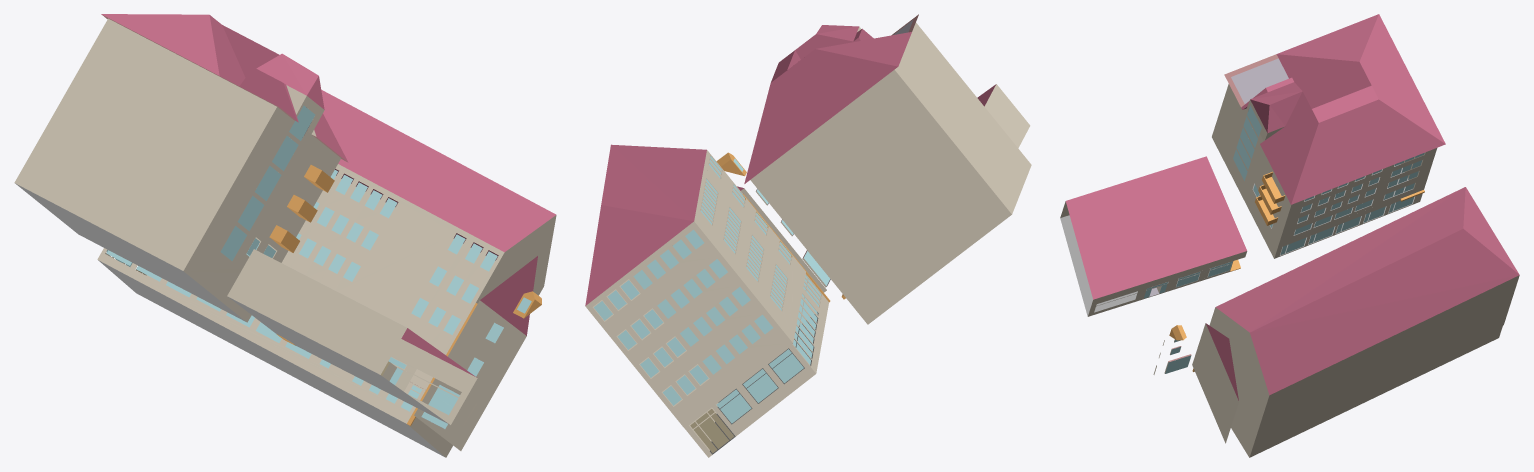
3 renders of one model, left to right at view 1: azimuth 30°, elevation 25°; view 2: azimuth 150°, elevation 25°; view 3: azimuth 270°, elevation 25°, orthographic. The views are drawn at different scales.
Parts seen in each view (by area): view 1: mesh; view 2: mesh; view 3: mesh.
Boxes of the visible parts, x1=… form: mesh: x1=14, y1=14, x2=556, y2=457; mesh: x1=585, y1=14, x2=1031, y2=457; mesh: x1=1060, y1=14, x2=1519, y2=457.
Bounding box in the file's own units: 46.27 × 41.76 × 50.39.
